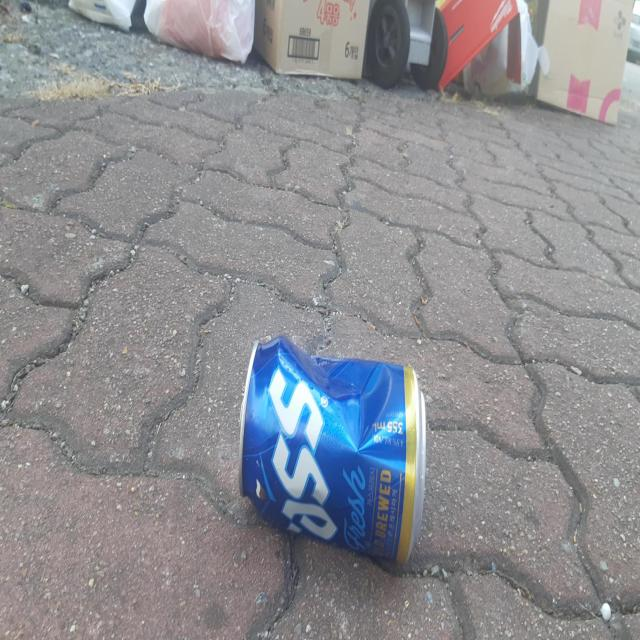can: (239, 335, 426, 564)
